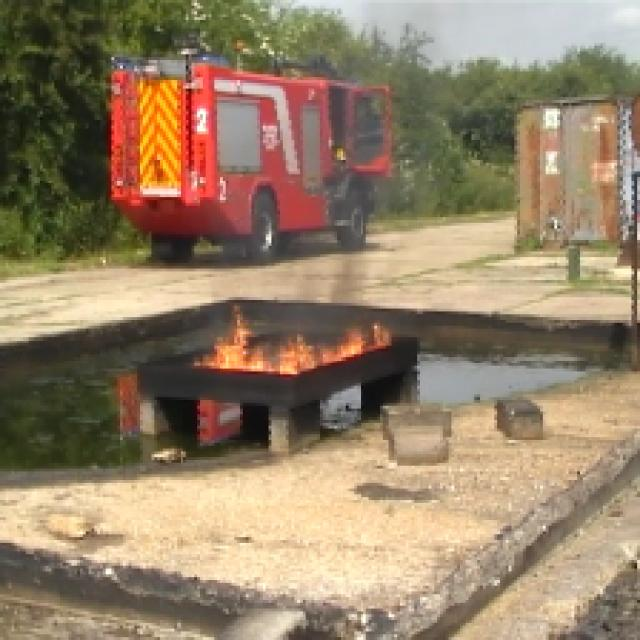fire: (205, 322, 379, 368)
